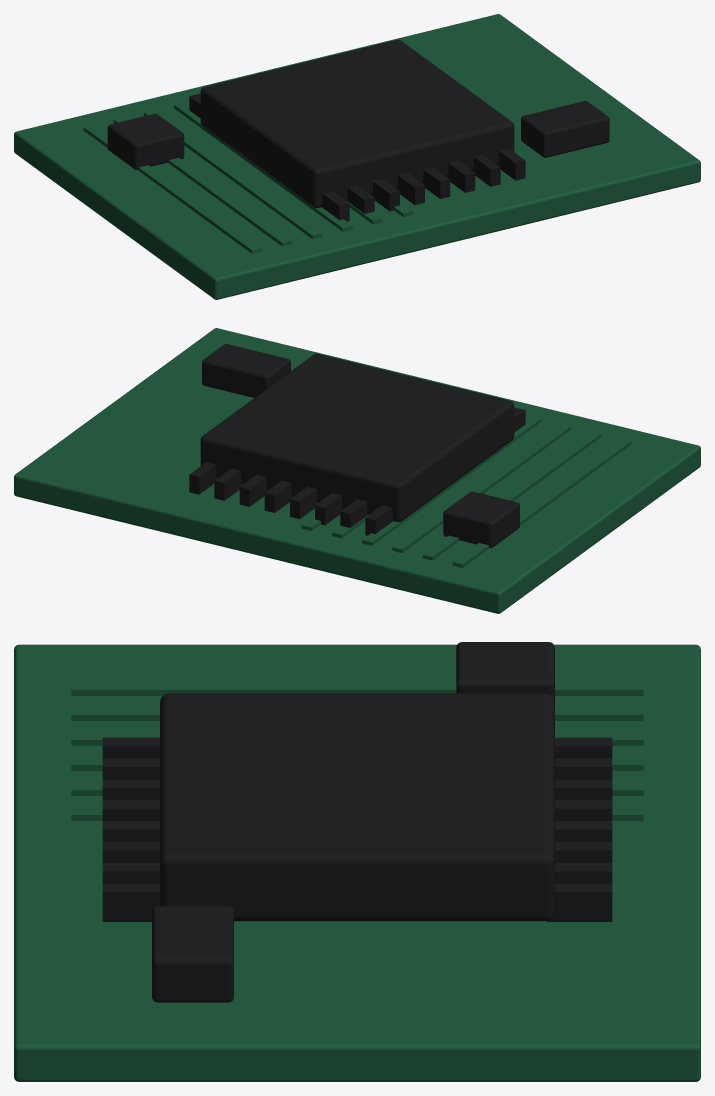
The picture shows the model from 3 angles, top to bottom: view 1: azimuth 30°, elevation 25°; view 2: azimuth 150°, elevation 25°; view 3: azimuth 270°, elevation 25°; orthographic projection. The views are drawn at different scales.
Bounding box in the file's own units: 0.58 × 0.0725 × 0.4176.
